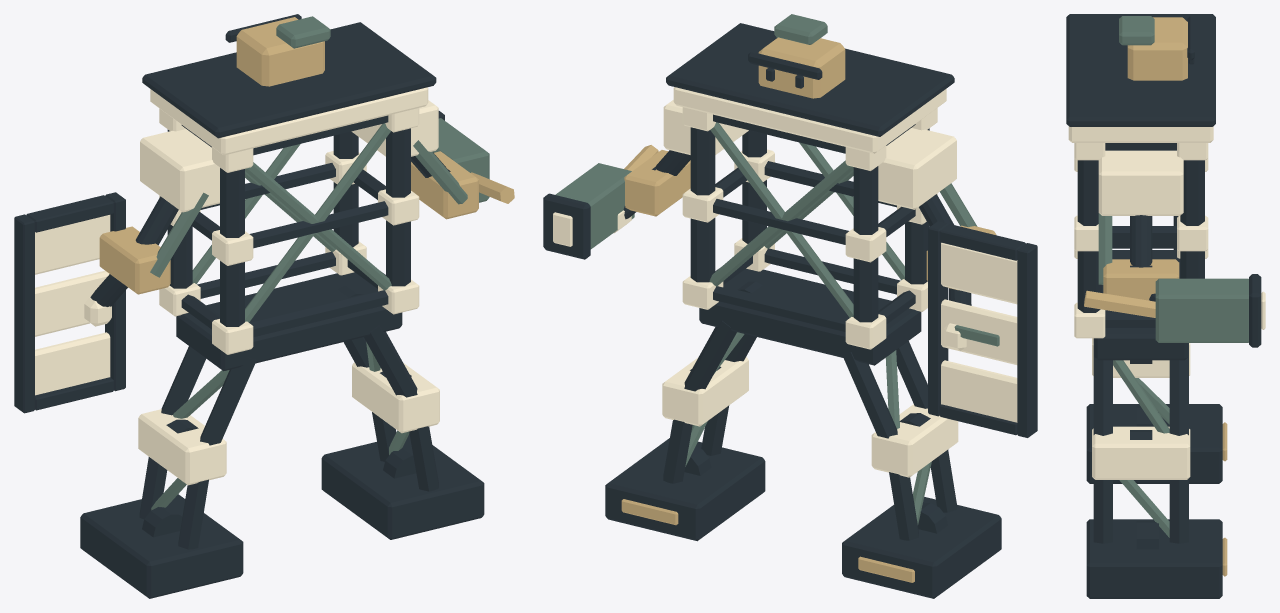
3 views of the same model, side by side, from view 1: azimuth 30°, elevation 25°; view 2: azimuth 150°, elevation 25°; view 3: azimuth 270°, elevation 25° (orthographic). The views are drawn at different scales.
Parts seen in each view (by area): view 1: top_ink_cap, L_plinth, R_plinth, waist_beam, L_shoulder_clamp, top_ledger, L_knee_node, barricade_L, supervisor_head, R_knee_node, barricade_panel_0, graphite_column_0 (+41 smaller); view 2: top_ink_cap, R_plinth, L_plinth, waist_beam, L_shoulder_clamp, top_ledger, barricade_L, L_knee_node, R_knee_node, barricade_panel_0, supervisor_head, barricade_panel_2 (+39 smaller); view 3: top_ink_cap, R_plinth, brace_weapon, R_shoulder_clamp, R_knee_node, L_plinth, supervisor_head, waist_beam, graphite_column_1, top_ledger, R_elbow_clamp, graphite_column_3 (+24 smaller).
Part boxes in pixels (x1,y1,x2,y2): top_ink_cap: [142, 22, 436, 138]; L_plinth: [80, 494, 243, 598]; R_plinth: [321, 434, 484, 539]; waist_beam: [176, 272, 402, 371]; L_shoulder_clamp: [140, 129, 219, 212]; top_ledger: [150, 87, 428, 155]; L_knee_node: [138, 409, 226, 485]; barricade_L: [14, 214, 34, 413]; supervisor_head: [236, 17, 324, 86]; R_knee_node: [352, 362, 439, 433]; barricade_panel_0: [35, 332, 110, 395]; graphite_column_0: [220, 168, 244, 326]; top_ink_cap: [666, 23, 954, 136]; R_plinth: [605, 438, 765, 541]; L_plinth: [842, 497, 1001, 598]; waist_beam: [699, 268, 921, 365]; L_shoulder_clamp: [878, 128, 956, 209]; top_ledger: [673, 87, 946, 153]; barricade_L: [1017, 243, 1037, 437]; L_knee_node: [871, 404, 958, 477]; R_knee_node: [662, 357, 748, 426]; barricade_panel_0: [941, 360, 1017, 422]; supervisor_head: [758, 37, 845, 98]; barricade_panel_2: [941, 242, 1017, 304]; top_ink_cap: [1066, 14, 1215, 126]; R_plinth: [1086, 519, 1222, 598]; brace_weapon: [1155, 278, 1248, 342]; R_shoulder_clamp: [1098, 150, 1183, 215]; R_knee_node: [1092, 426, 1190, 479]; L_plinth: [1086, 404, 1222, 483]; supervisor_head: [1127, 17, 1187, 80]; waist_beam: [1094, 250, 1187, 360]; graphite_column_1: [1077, 160, 1101, 312]; top_ledger: [1068, 126, 1213, 142]; R_elbow_clamp: [1103, 259, 1179, 300]; graphite_column_3: [1180, 160, 1204, 278].
Bounding box in the file's own units: 2.33 × 2.48 × 0.892.
